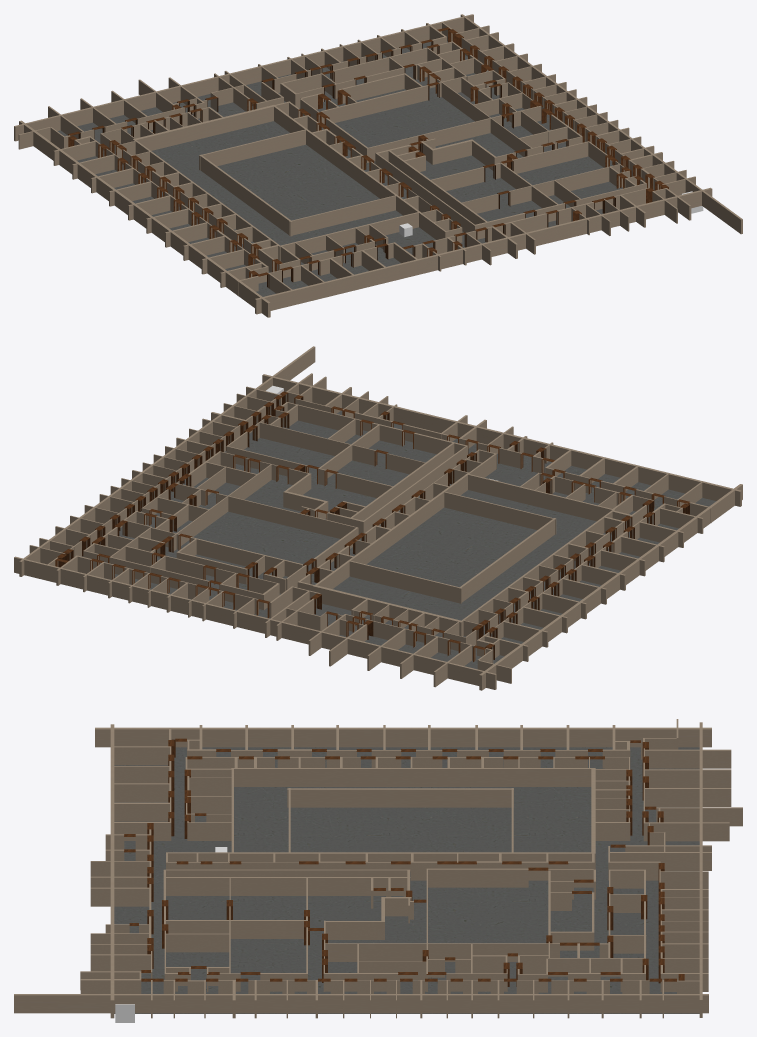
The model's file is second.glb.
3 views of the same model, one above another, from view 1: azimuth 30°, elevation 25°; view 2: azimuth 150°, elevation 25°; view 3: azimuth 270°, elevation 25° (orthographic). The views are drawn at different scales.
Visible parts, largest first — view 1: Walls.002, Floor.002, Doors.002; view 2: Walls.002, Floor.002, Doors.002; view 3: Walls.002, Floor.002, Doors.002.
Boxes of the visible parts, x1,y1,x2,y2 form: Walls.002: (14,14,742,317); Floor.002: (57,41,622,296); Doors.002: (68,27,668,288); Walls.002: (14,346,742,690); Floor.002: (82,410,716,669); Doors.002: (55,391,690,661); Walls.002: (14,719,742,1018); Floor.002: (114,747,699,1013); Doors.002: (124,738,684,986).
Size of the model in its own units: 67.03 by 3 by 73.46.
Materials: 3 (3 with a texture image).
